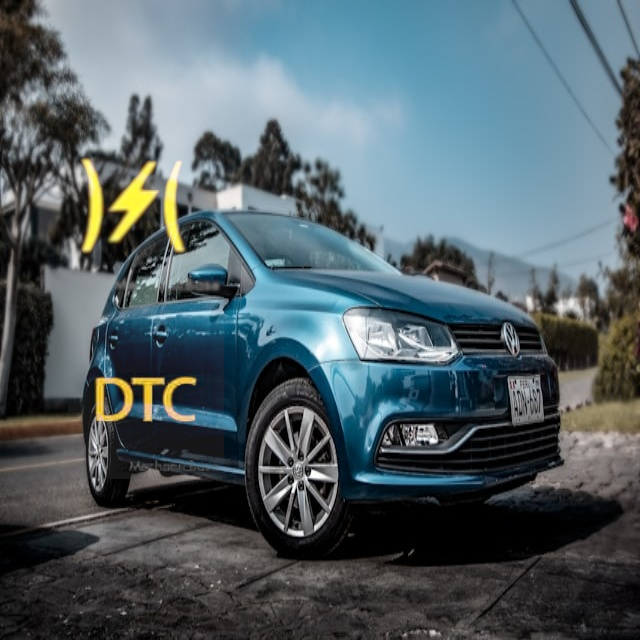symbol: (40, 113, 227, 300), (68, 323, 224, 479)
